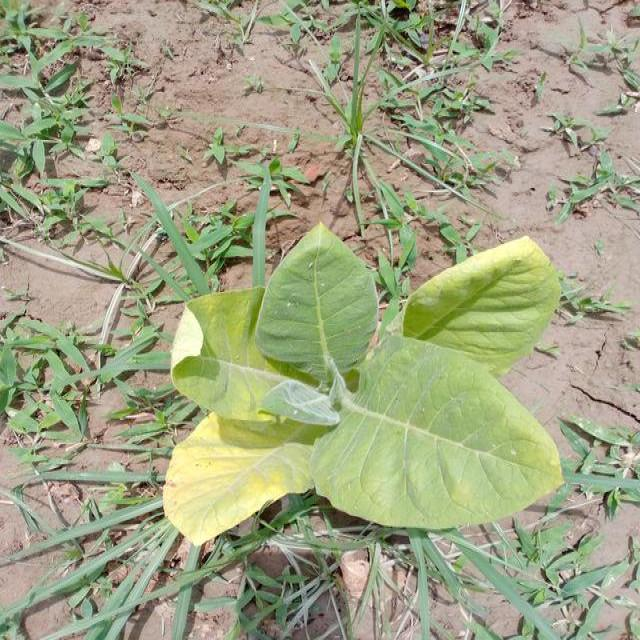crop: (166, 260, 568, 523)
